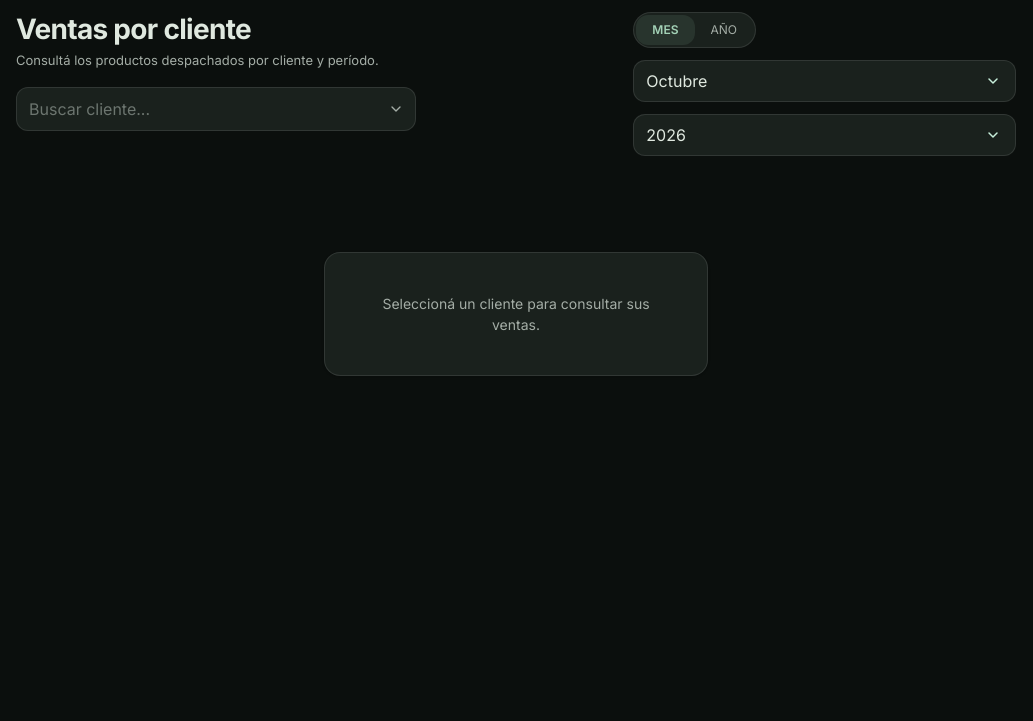
it: VentasPage › renders resumen por mes then annual totals
This screenshot has width=1033, height=721.
Click the dropdown with placeholder "Buscar cliente..." at (216, 108), box x1=16 y1=86 x2=416 y2=130
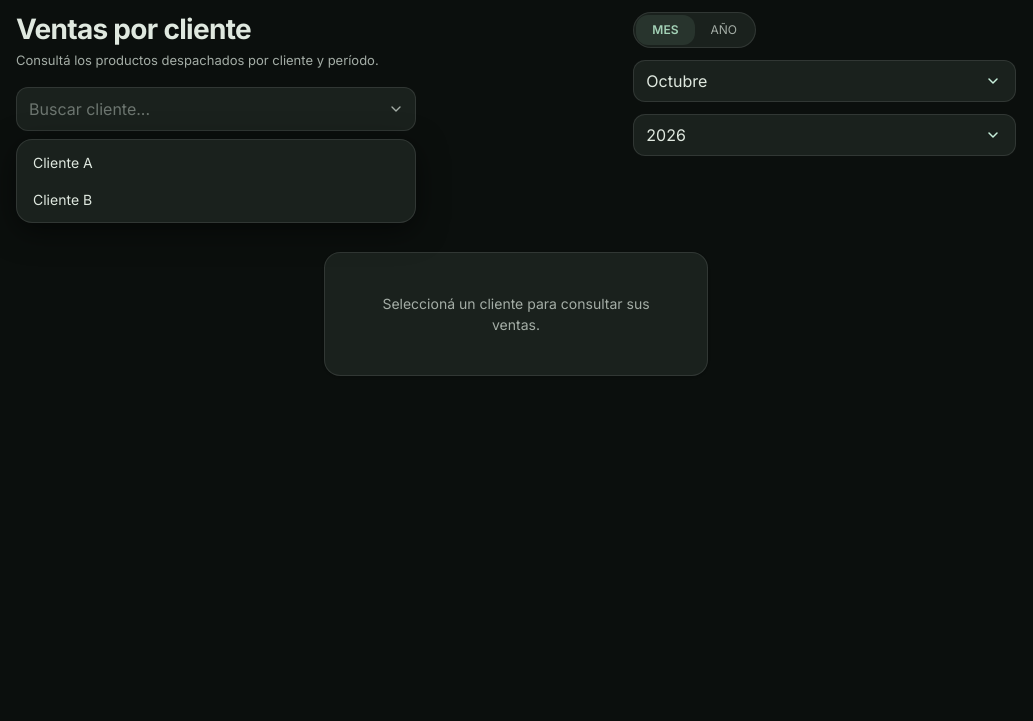
Click the option "Cliente A" at (63, 162), box x1=21 y1=144 x2=411 y2=180
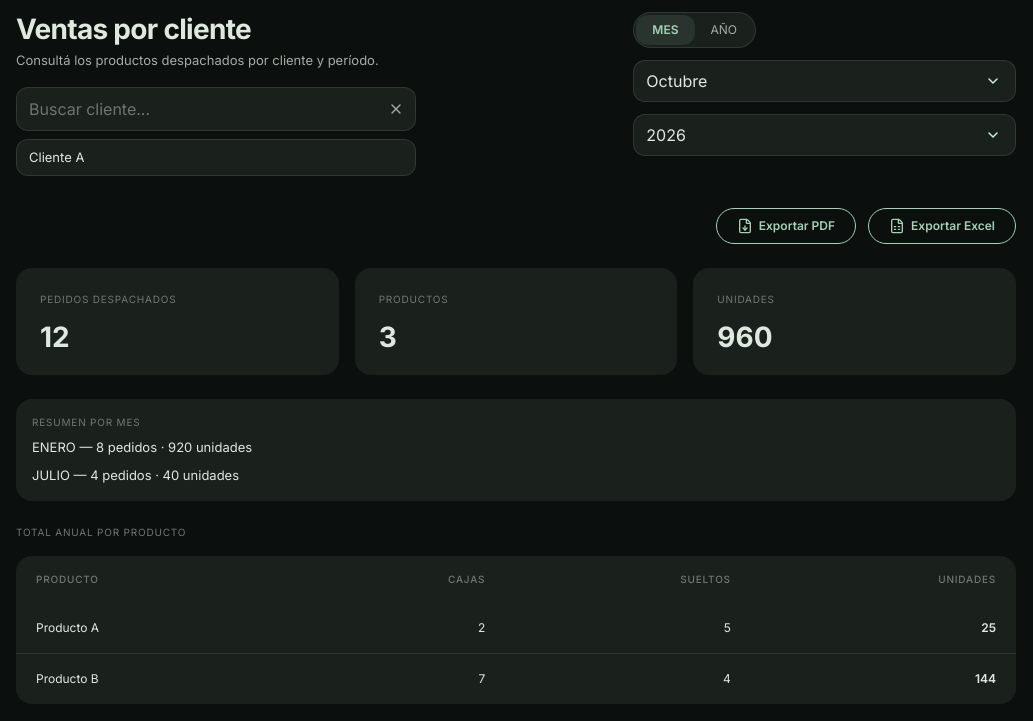
Check: the text "ENERO — 8 pedidos · 920 unidades" is shown, box x1=32 y1=439 x2=252 y2=455
Check: the text "JULIO — 4 pedidos · 40 unidades" is shown, box x1=32 y1=466 x2=239 y2=482
Check: the heading "TOTAL ANUAL POR PRODUCTO" is shown, box x1=16 y1=526 x2=186 y2=538
